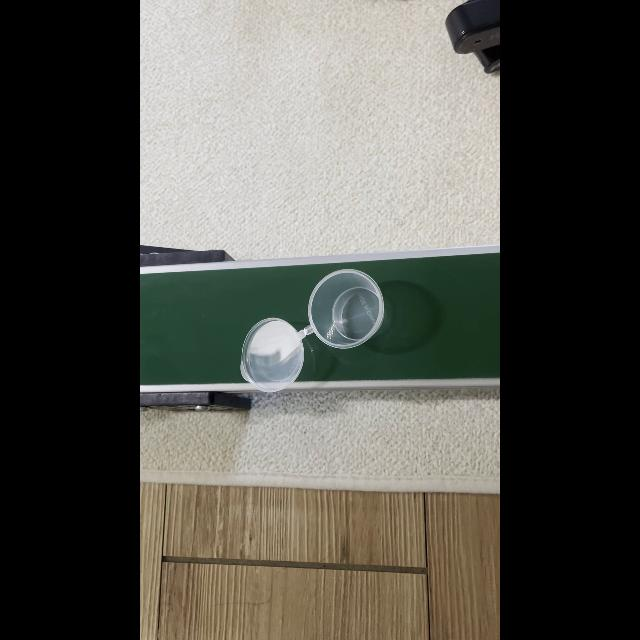clean: (309, 270, 386, 344), (238, 322, 306, 383)
